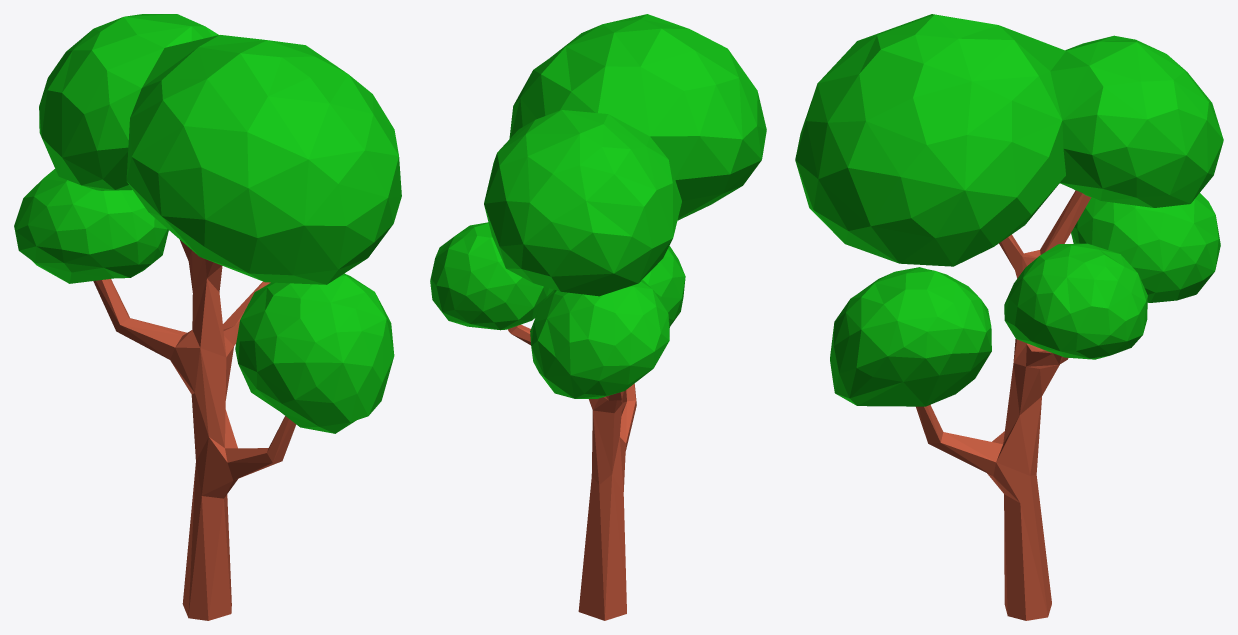
File: tree_B_02.fbx
The picture shows the model from 3 angles, left to right: view 1: azimuth 30°, elevation 25°; view 2: azimuth 150°, elevation 25°; view 3: azimuth 270°, elevation 25°; orthographic projection. The views are drawn at different scales.
Parts seen in each view (by area): view 1: tree_B_02; view 2: tree_B_02; view 3: tree_B_02.
Boxes of the visible parts, <box> form: tree_B_02: <box>14,14,401,620</box>; tree_B_02: <box>430,14,766,620</box>; tree_B_02: <box>795,14,1223,620</box>.
Bounding box in the file's own units: 130 × 269 × 178.
